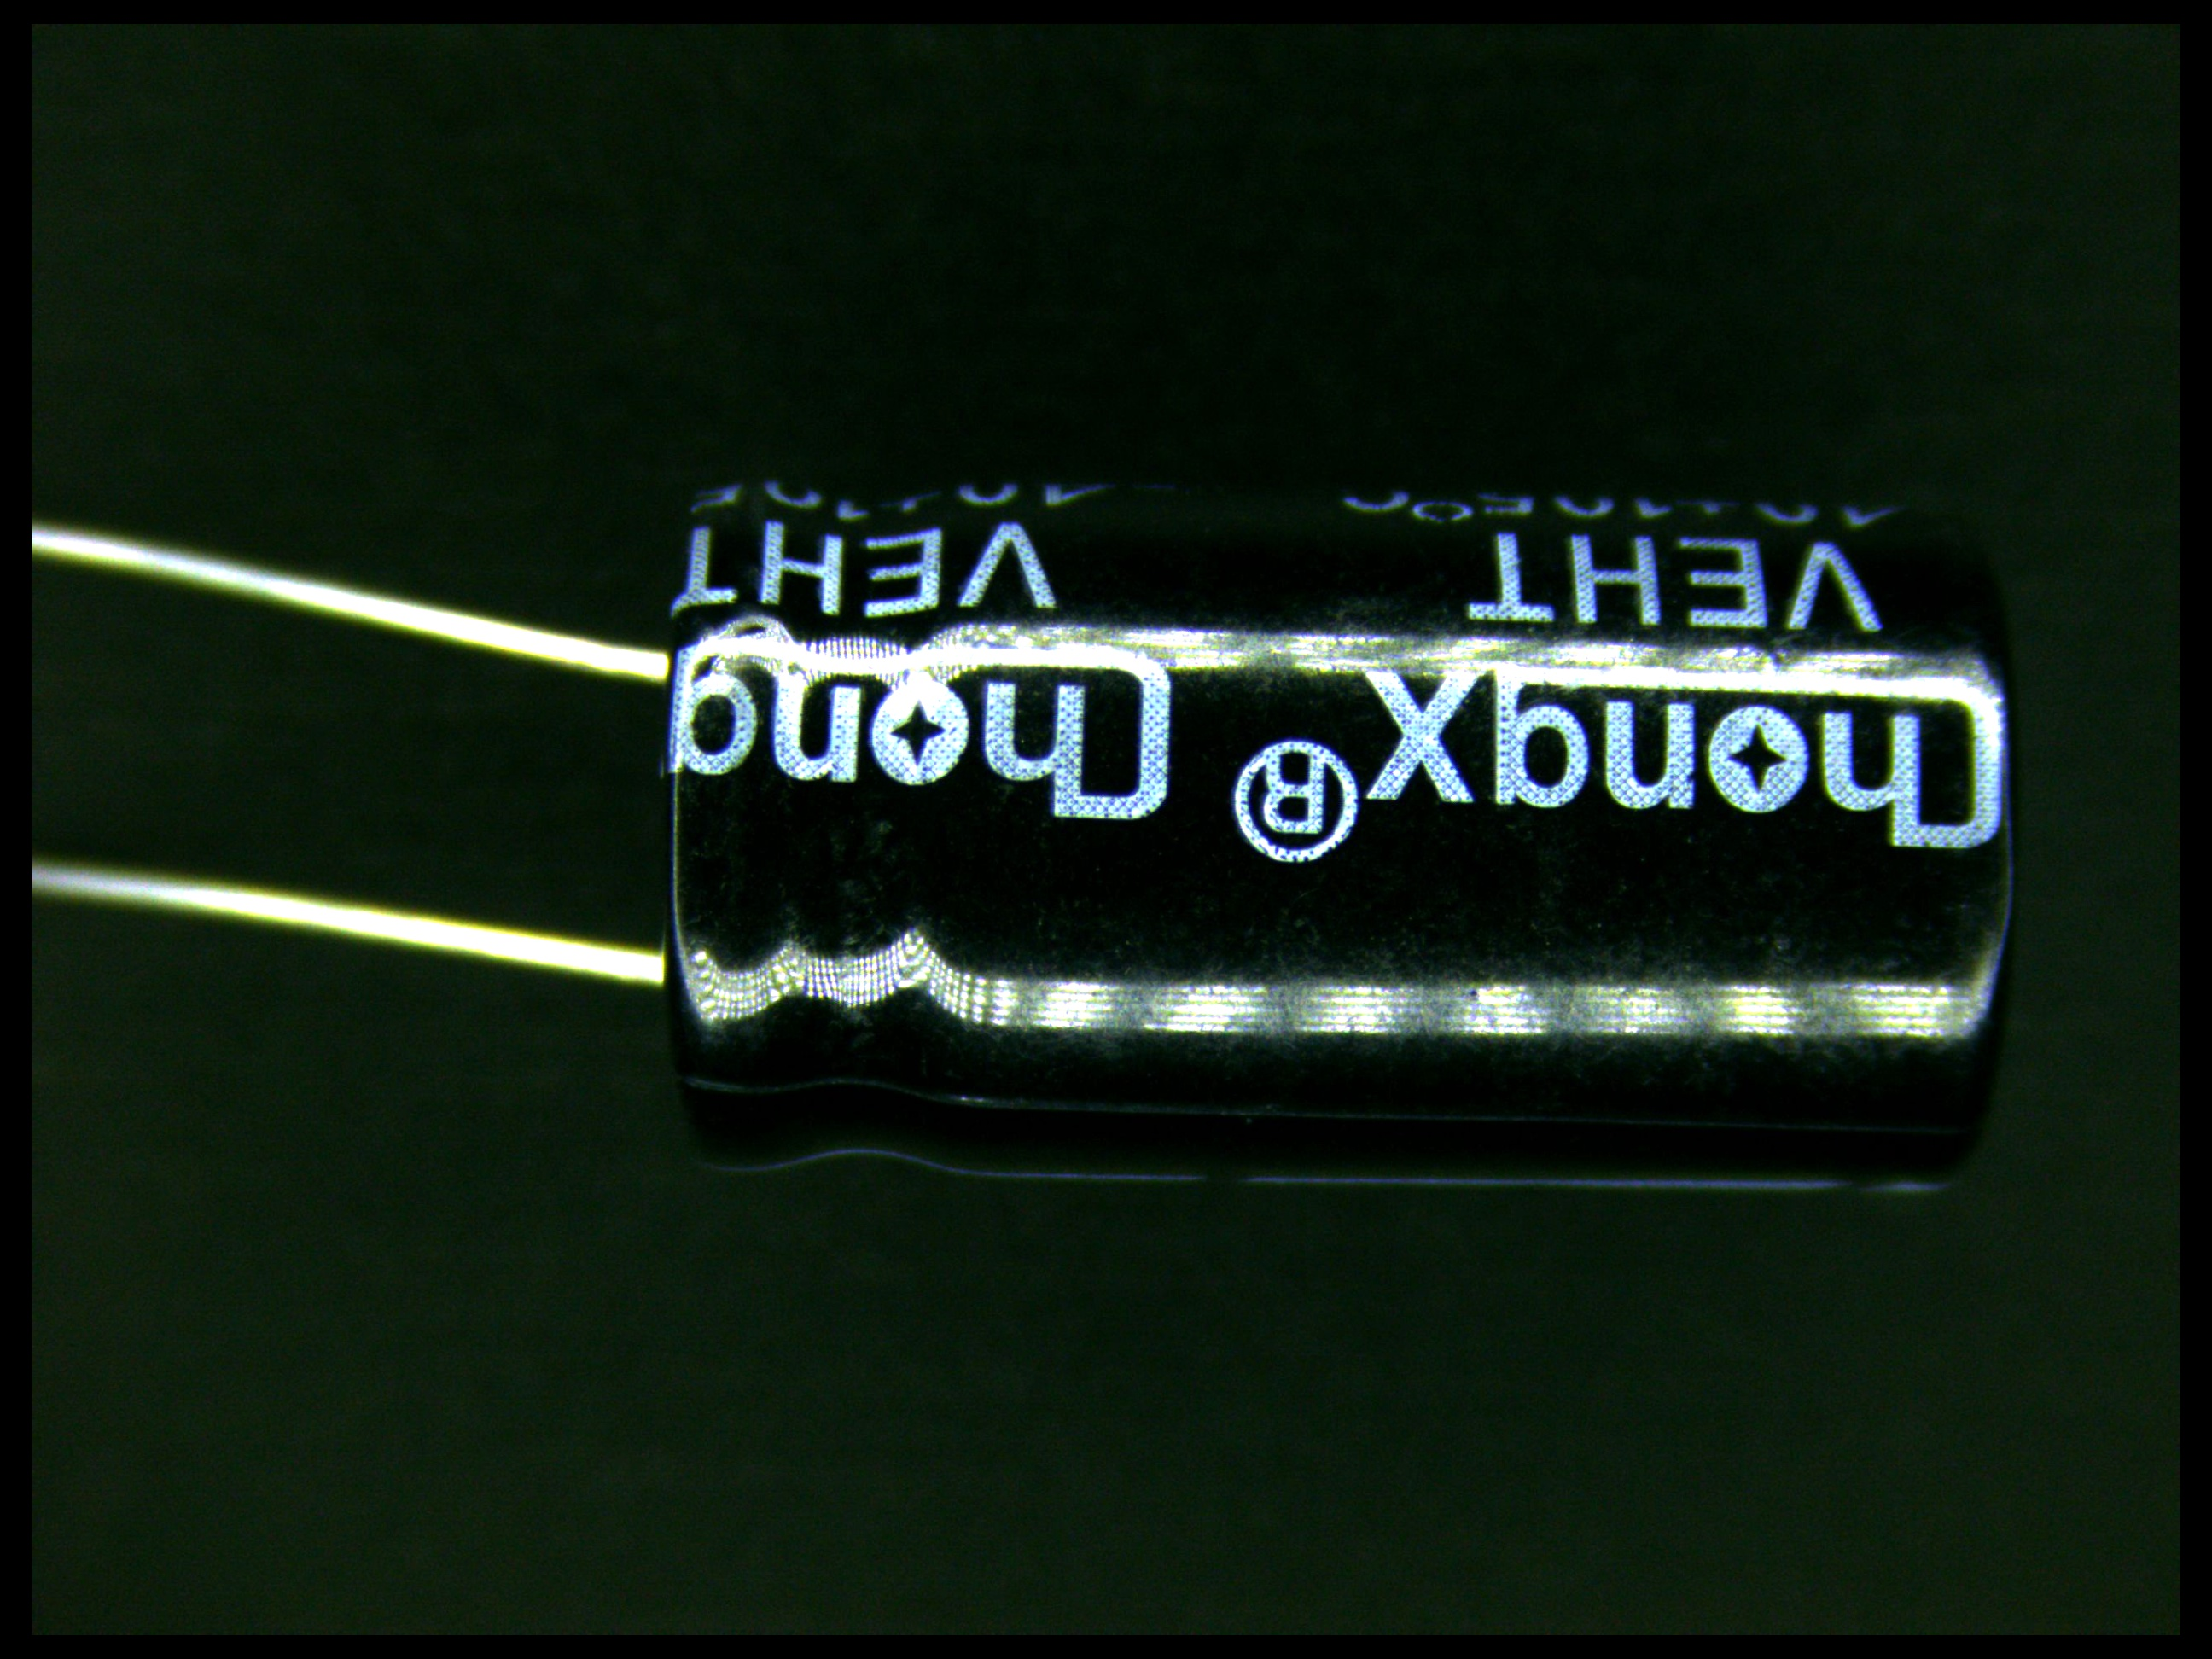c3: (415, 469, 2026, 1192)
